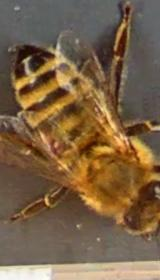varroa_mite: (38, 125, 77, 160)
